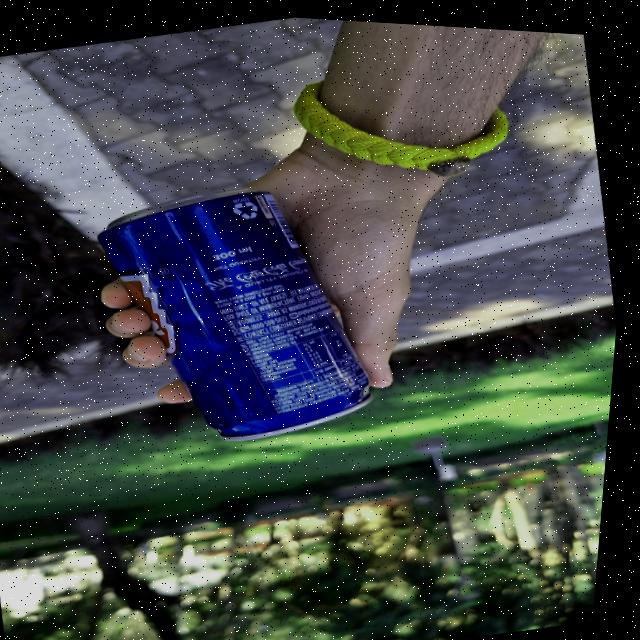Thums Up: (78, 151, 401, 468)
